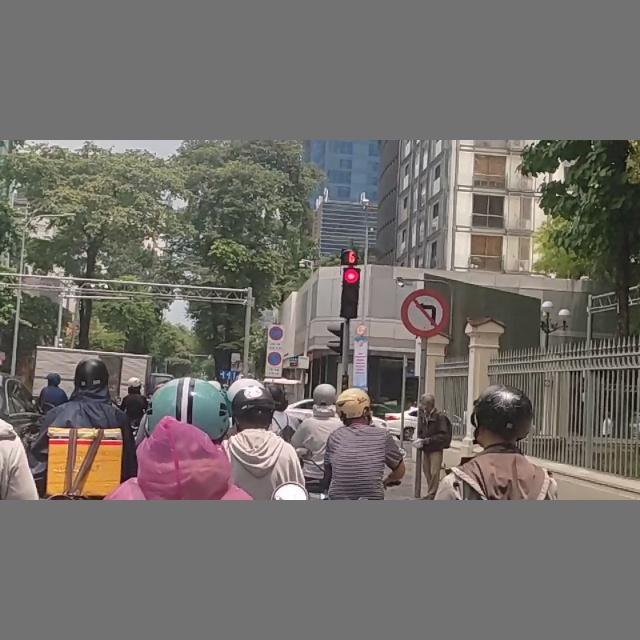P.123a: (400, 286, 449, 338)
P.130: (267, 325, 283, 342)
P.131a: (266, 350, 282, 367)
